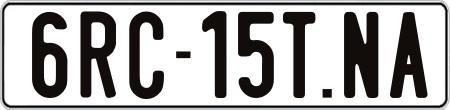1: (201, 9, 229, 102)
5: (237, 12, 279, 104)
6: (29, 11, 69, 100)
A: (390, 11, 430, 103)
C: (126, 10, 166, 100)
N: (342, 11, 377, 103)
R: (79, 11, 115, 104)
T: (280, 11, 318, 99)
